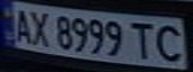8: (51, 12, 72, 51)
9: (103, 17, 130, 57), (87, 16, 109, 55), (69, 15, 90, 53)
A: (9, 6, 36, 45)
C: (148, 21, 190, 63)
T: (124, 19, 160, 61)
X: (24, 7, 54, 47)
